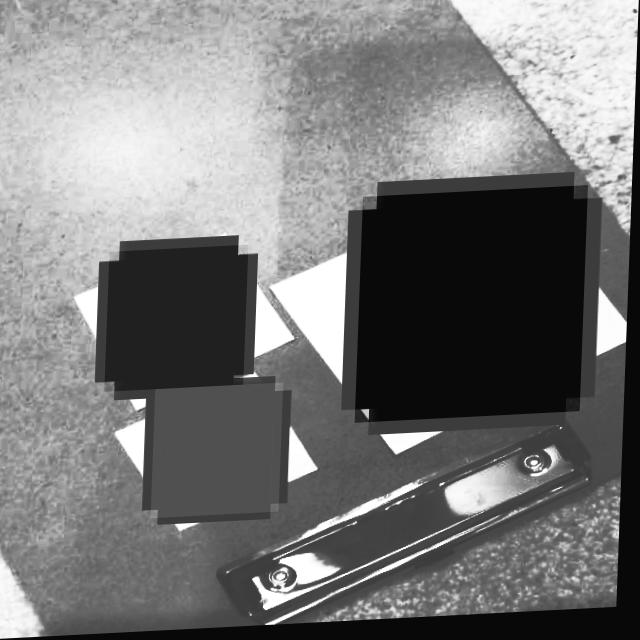qr_code: (358, 192, 590, 427), (107, 247, 250, 393), (155, 386, 286, 520)
